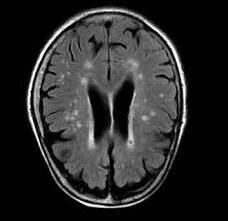Normal_Brain: (3, 2, 228, 221)
